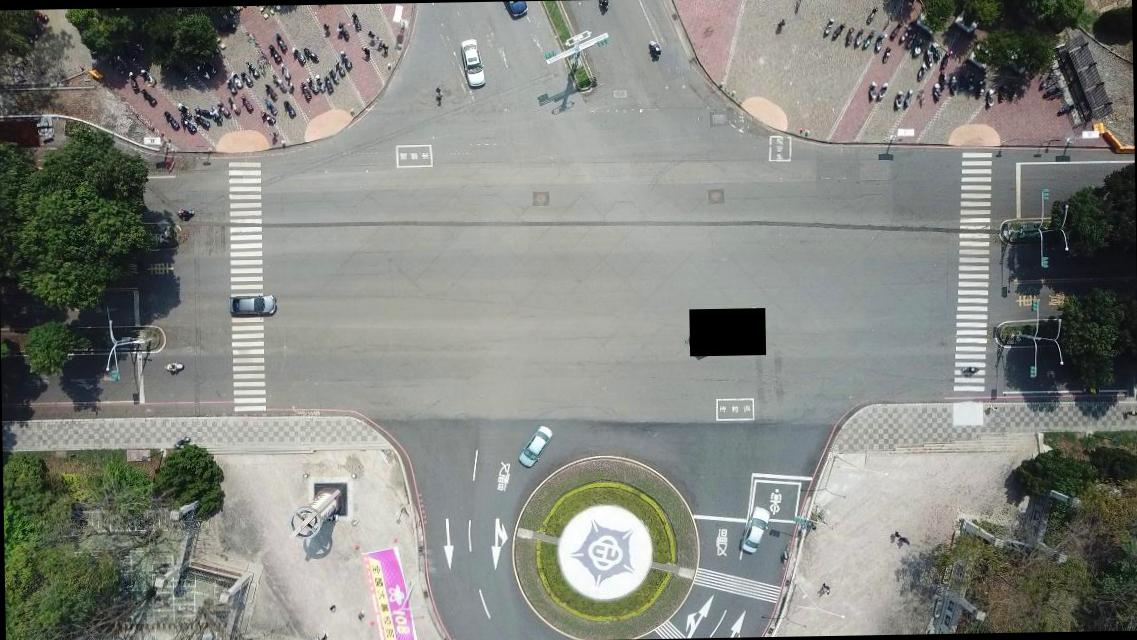vehicle: (738, 504, 773, 556), (516, 424, 554, 470), (459, 38, 487, 88), (228, 291, 276, 319)
